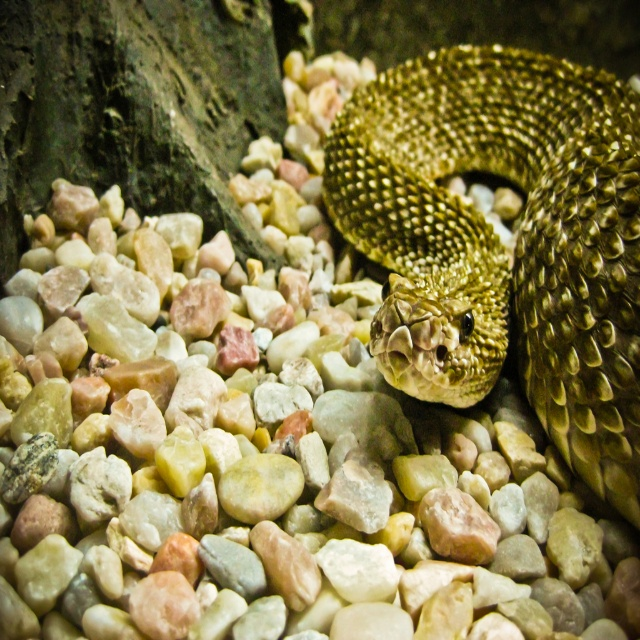Snake: (308, 42, 640, 532)
